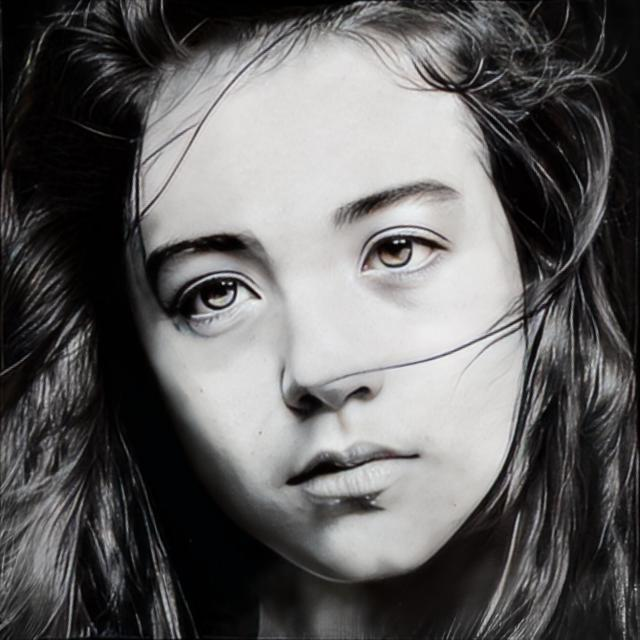neutral: (124, 21, 528, 590)
